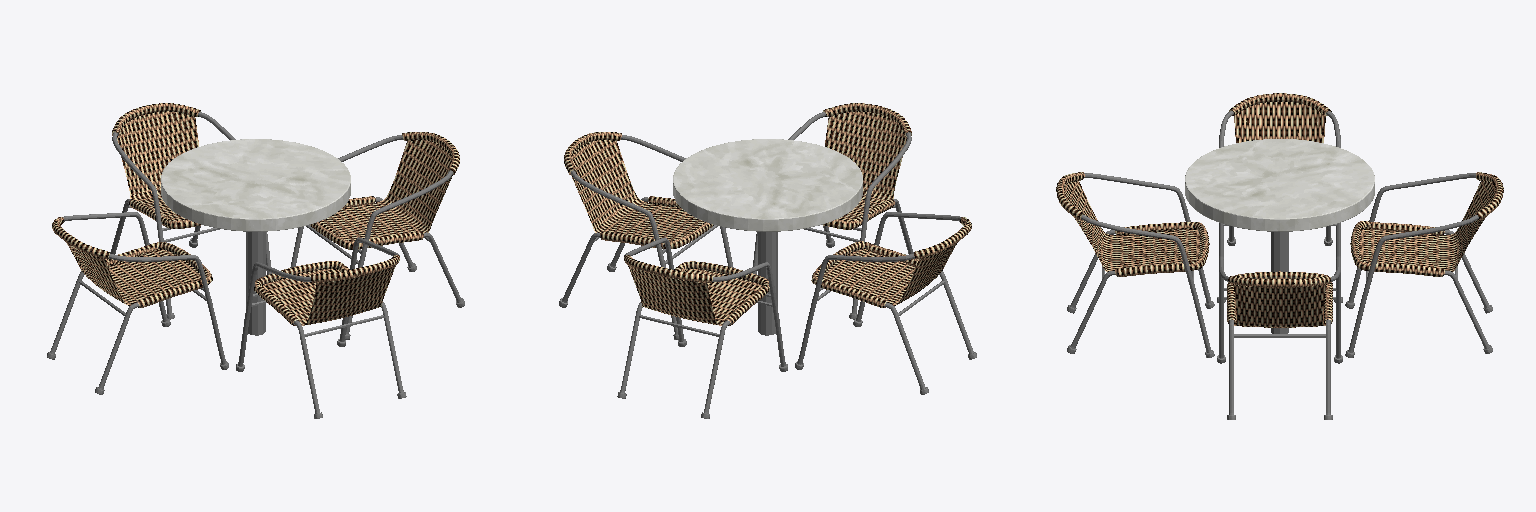
3 renders of one model, left to right at view 1: azimuth 30°, elevation 25°; view 2: azimuth 150°, elevation 25°; view 3: azimuth 270°, elevation 25°, orthographic.
Parts seen in each view (by area): view 1: Surface.003; view 2: Surface.003; view 3: Surface.003.
Boxes of the visible parts, x1=… form: Surface.003: x1=47, y1=103, x2=464, y2=418; Surface.003: x1=559, y1=103, x2=976, y2=418; Surface.003: x1=1056, y1=93, x2=1503, y2=419.
Size of the model in its own units: 11.6 by 4.41 by 11.6.
1 materials, 1 textured.